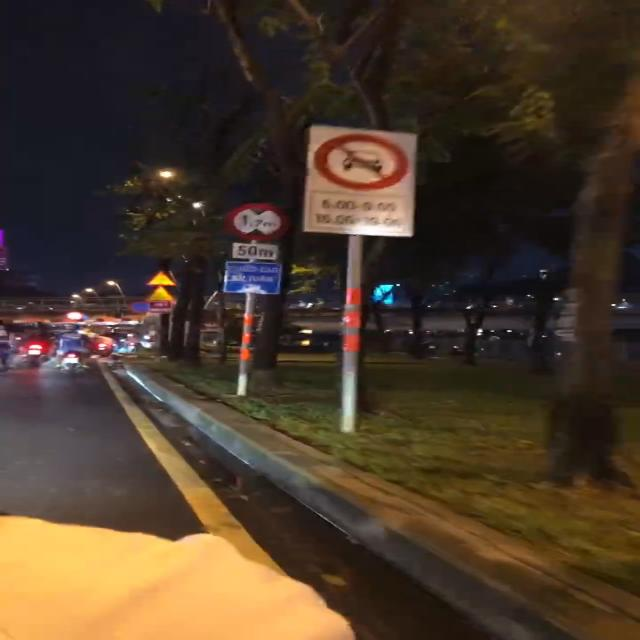Bien bao cam xe oto: (302, 126, 424, 192)
